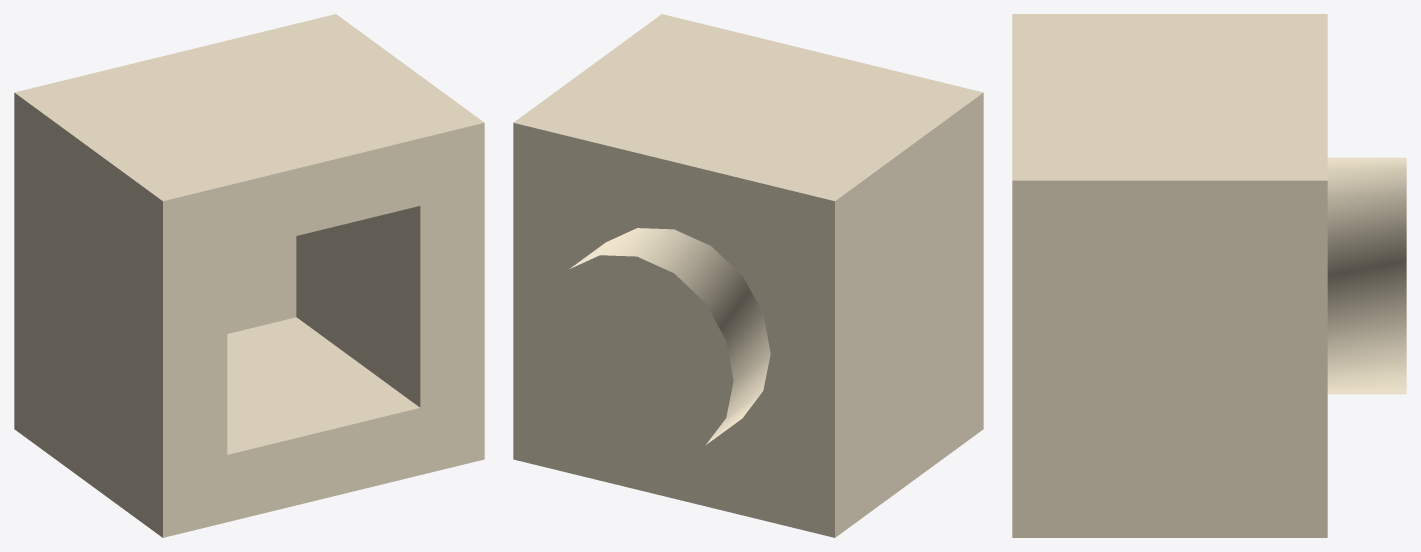
The model's file is ficha.glb.
The picture shows the model from 3 angles, left to right: view 1: azimuth 30°, elevation 25°; view 2: azimuth 150°, elevation 25°; view 3: azimuth 270°, elevation 25°; orthographic projection. The views are drawn at different scales.
Visible parts, largest first — view 1: Node1; view 2: Node1; view 3: Node1.
Boxes of the visible parts, x1=… form: Node1: x1=14, y1=14, x2=484, y2=537; Node1: x1=513, y1=14, x2=983, y2=537; Node1: x1=1012, y1=14, x2=1406, y2=537.
Bounding box in the file's own units: 16.49 × 16.49 × 16.49.
